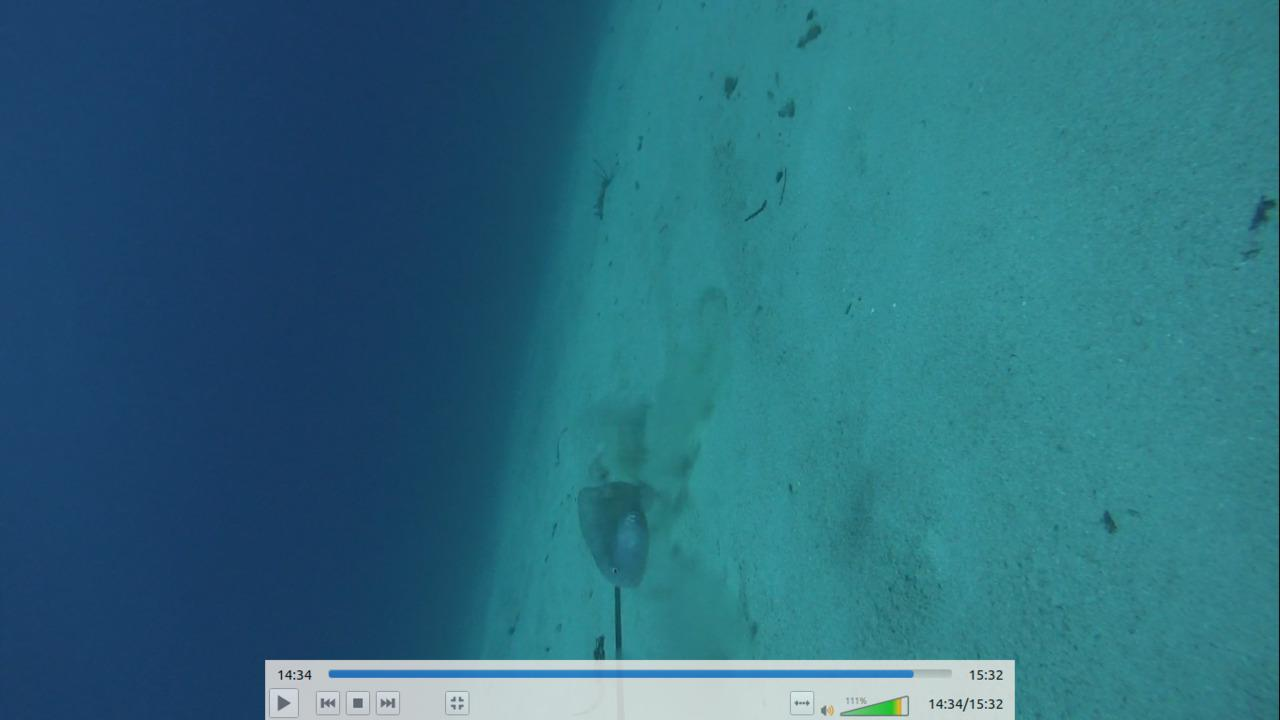raor: (559, 466, 658, 597)
